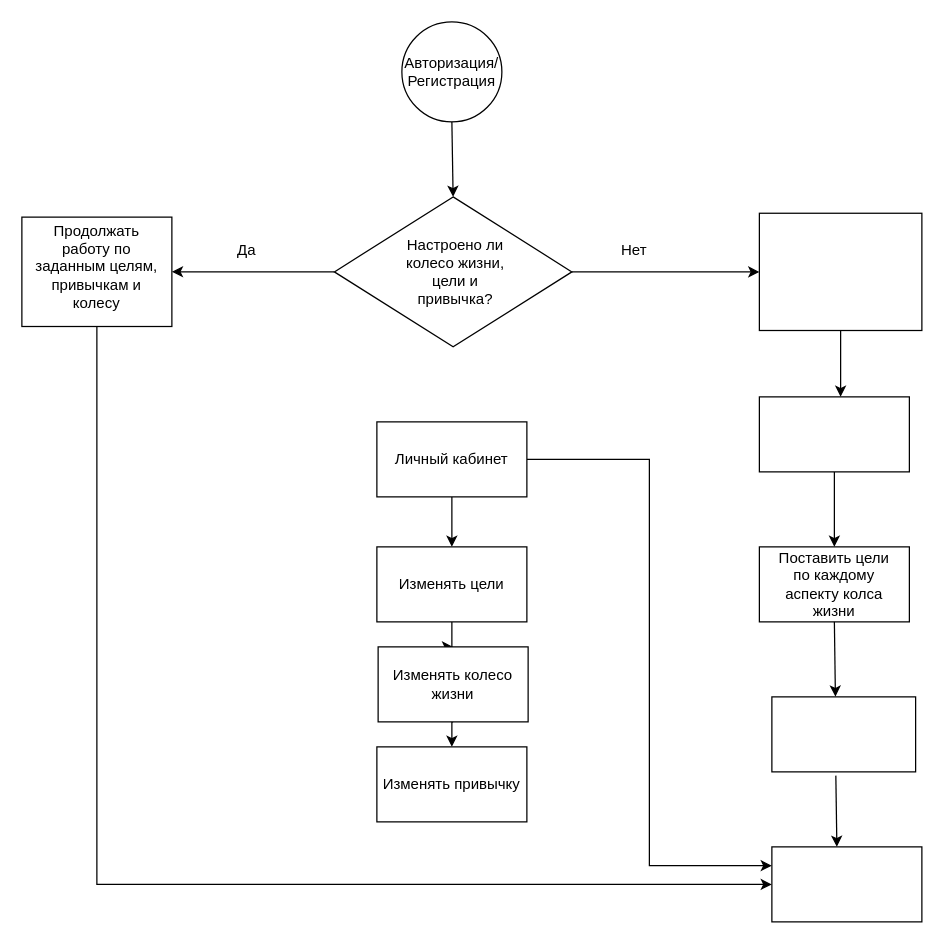
The diagram is 944 pixels wide and 944 high, and some of its shapes have lost their labels. Each missing label, with the centre of its shape:
"Календарь для планирования дел" goes at pixel 846 884.
"Настроить колесо жизни" goes at pixel 833 434.
"Поставить себе привычку месяца" goes at pixel 843 734.
"Создать сценарий изменения жизни" goes at pixel 840 271.
